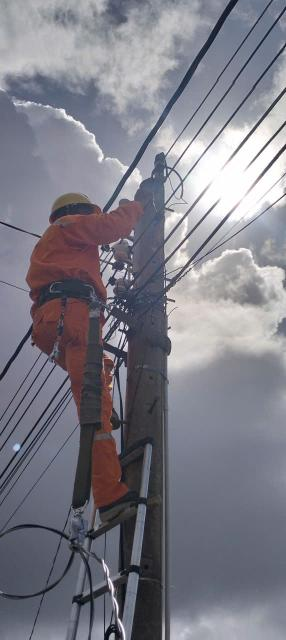harness: (18, 268, 106, 308)
helmet: (39, 178, 105, 226)
shoes: (90, 485, 150, 518)
